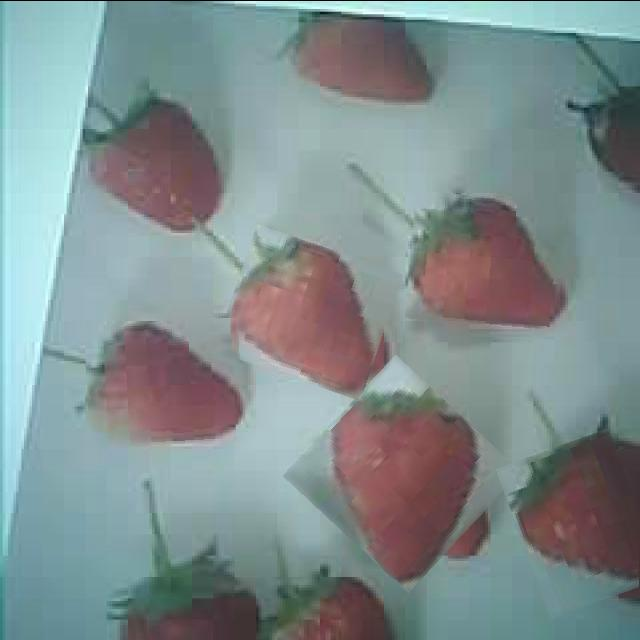strawberry: (300, 372, 504, 574), (222, 234, 394, 390), (508, 434, 640, 610), (408, 193, 564, 327), (86, 318, 243, 446)
